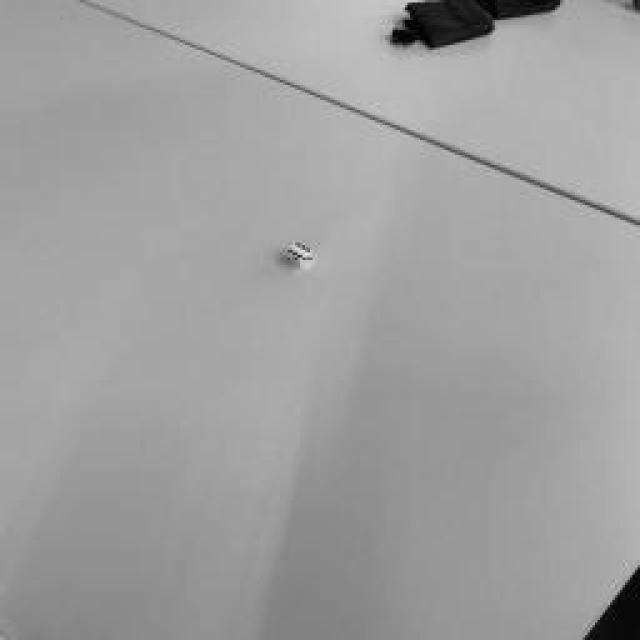dice_6: (286, 244, 314, 258)
